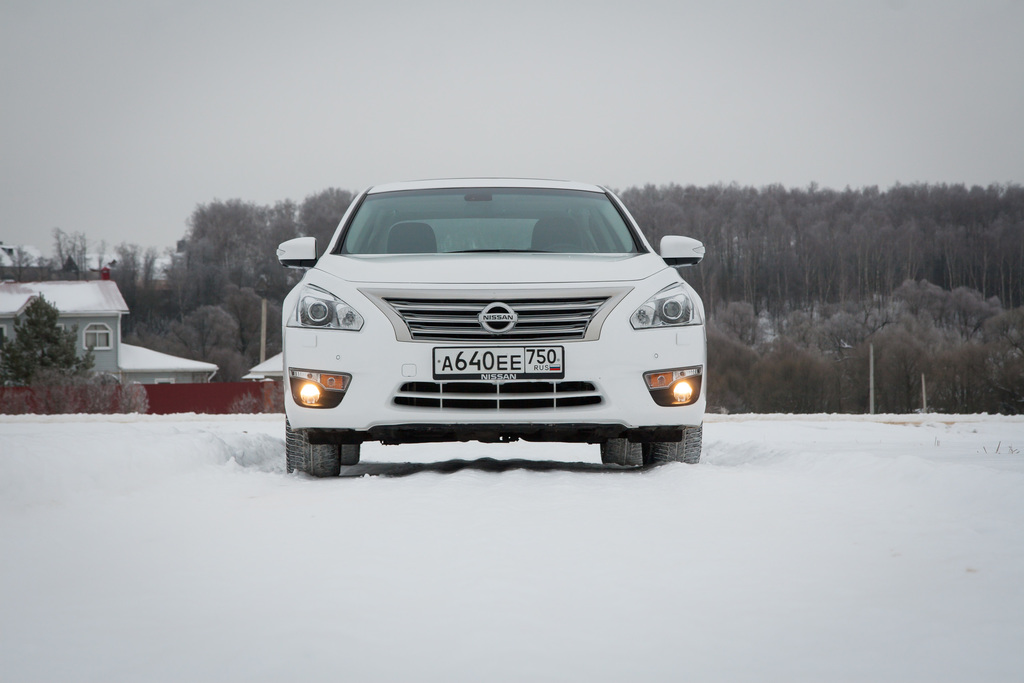Tree: (0, 178, 1023, 414)
